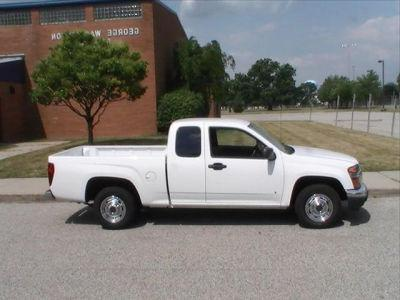Car: (45, 114, 367, 235)
